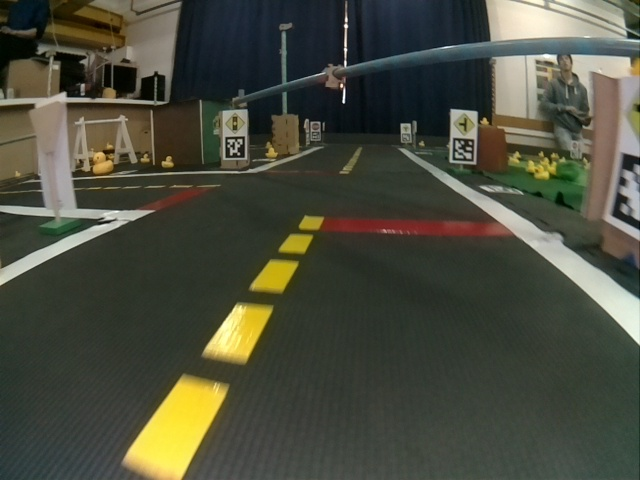Duckie: (92, 156, 114, 173), (164, 157, 174, 167), (537, 168, 547, 178), (266, 148, 277, 157), (526, 161, 534, 171), (141, 154, 149, 163)
Intersection sign: (451, 110, 477, 133)
QR code: (452, 136, 475, 162), (225, 136, 245, 159)
Signal sign: (225, 113, 245, 133)
Traffic light: (324, 64, 343, 90)
